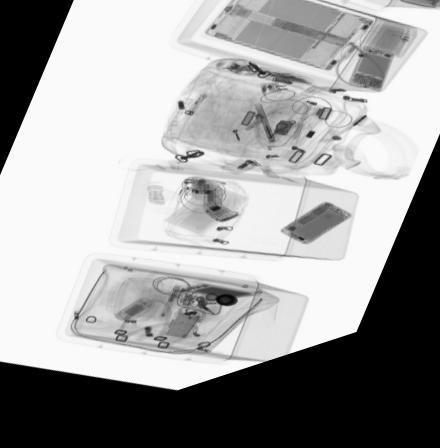Lighter: (183, 105, 207, 126)
